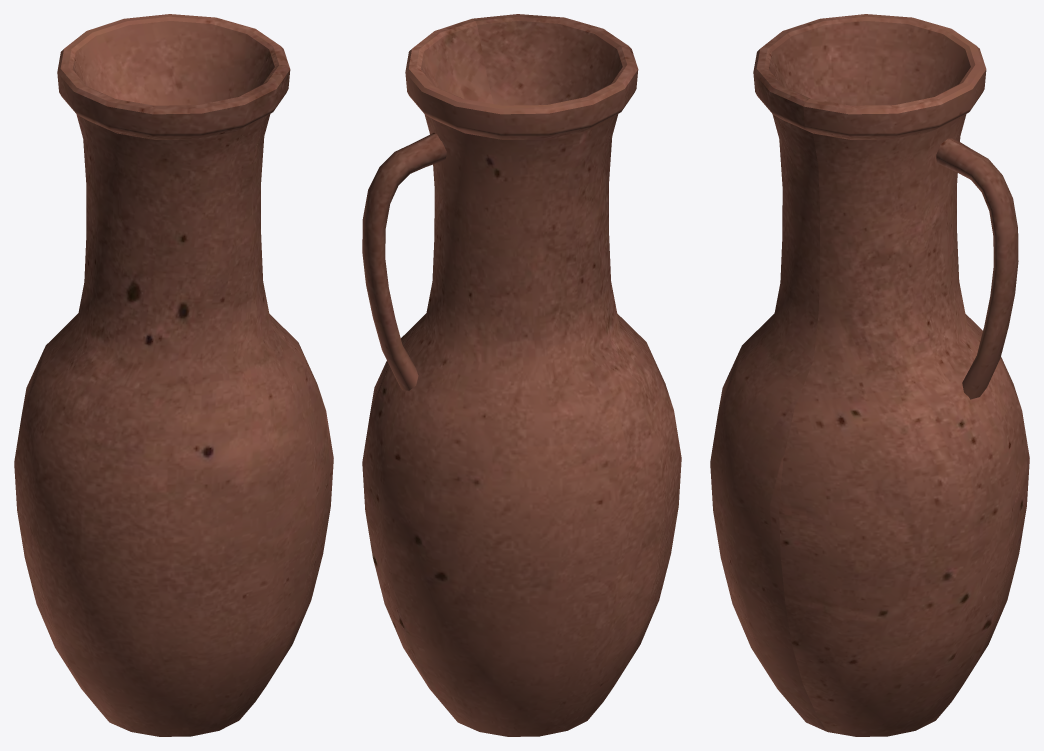
File: Vase_10.glb
3 renders of one model, left to right at view 1: azimuth 30°, elevation 25°; view 2: azimuth 150°, elevation 25°; view 3: azimuth 270°, elevation 25°, orthographic.
Parts seen in each view (by area): view 1: SM_Vase_10; view 2: SM_Vase_10; view 3: SM_Vase_10.
Part boxes in pixels (box(x1,y1,x2,y2)): SM_Vase_10: box(14, 14, 333, 736); SM_Vase_10: box(362, 14, 681, 736); SM_Vase_10: box(710, 14, 1029, 736).
Size of the model in its own units: 0.1465 by 0.3266 by 0.1469.
Materials: 1 (1 with a texture image).
